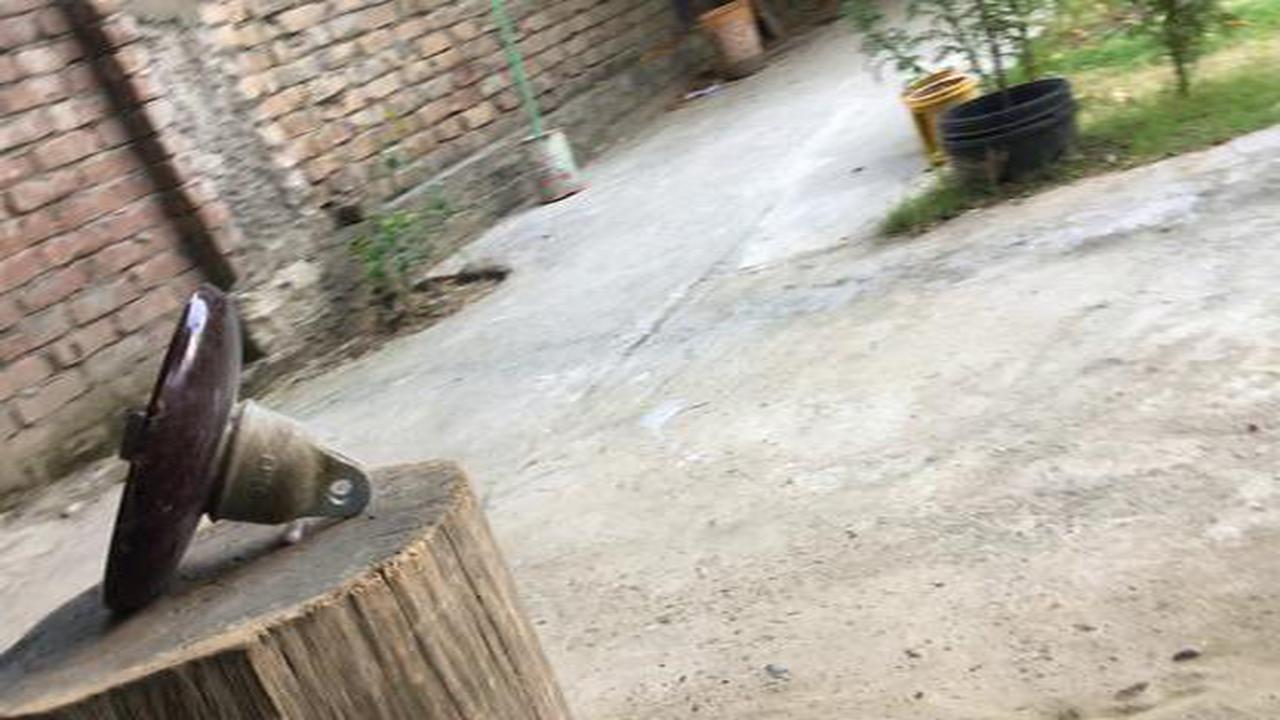insulator_disc: (97, 279, 335, 609)
